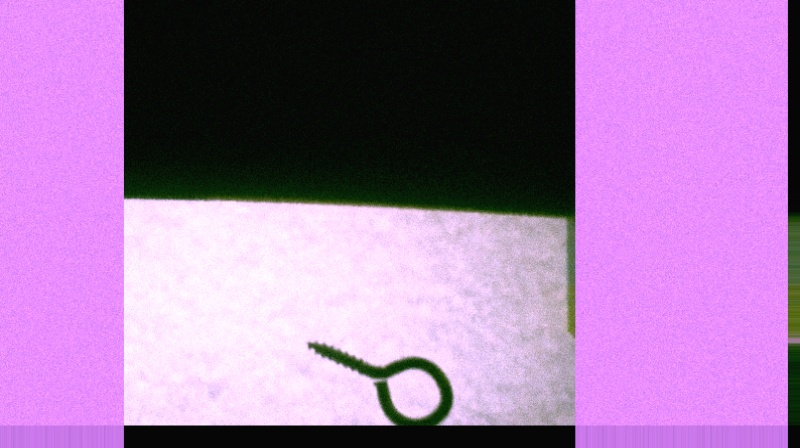O001: (303, 337, 457, 435)
